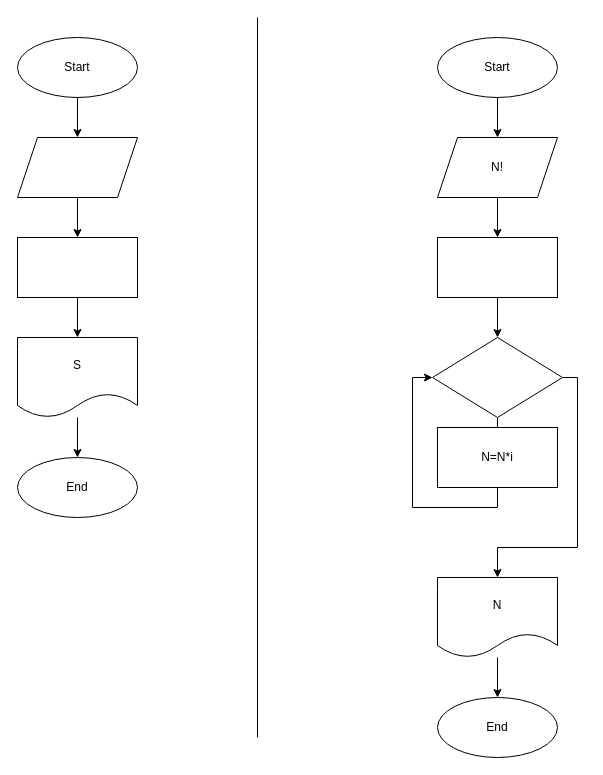
This 603x775 diagram has some shape labels left out. Here are the shapes that lost their labels. From the top down, the box of each, then its label:
(16, 136, 138, 198): a,b,c,d
(16, 236, 138, 298): S=(a+b+c+d)/4
(436, 236, 558, 298): N=1
(432, 336, 562, 418): i=1....N
